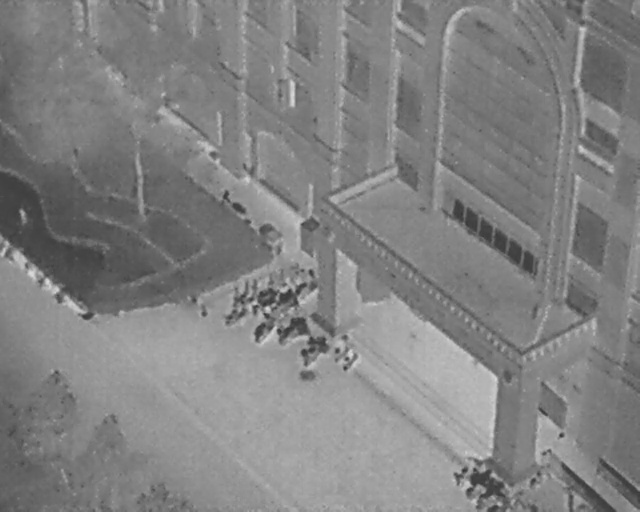Bicycle: (269, 308, 314, 349), (456, 463, 500, 500), (294, 329, 332, 370), (468, 474, 508, 511), (447, 452, 481, 488), (248, 311, 279, 347), (262, 289, 297, 319), (217, 188, 249, 215), (218, 305, 248, 331), (336, 346, 362, 375), (328, 331, 352, 360), (275, 267, 291, 293), (290, 265, 306, 291), (227, 282, 242, 308), (237, 280, 252, 306), (246, 278, 261, 304), (265, 273, 278, 299)
